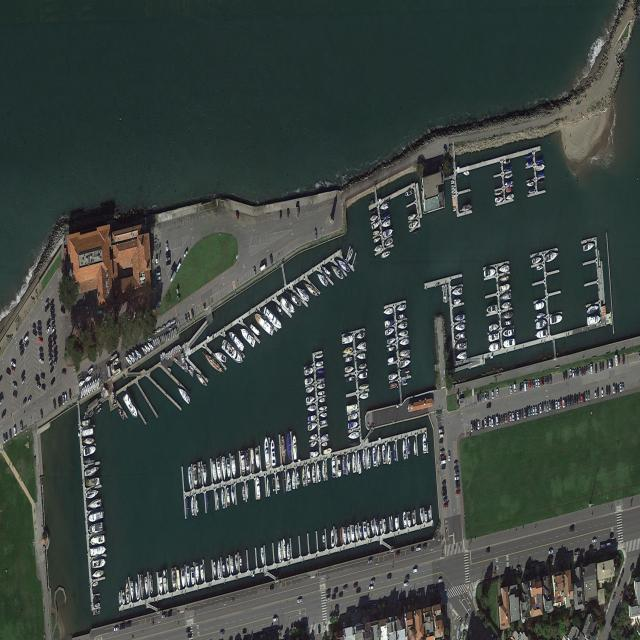large-vehicle: (169, 270, 177, 284)
ship: (221, 338, 244, 368), (253, 310, 274, 338), (263, 305, 283, 334), (204, 350, 224, 377), (123, 392, 139, 422), (228, 329, 245, 354), (285, 287, 302, 310), (240, 325, 256, 349), (280, 295, 296, 318), (177, 385, 191, 406), (337, 256, 351, 276), (304, 280, 318, 300), (295, 285, 310, 303), (331, 263, 344, 283), (195, 371, 208, 389), (316, 270, 328, 289), (264, 436, 270, 471), (88, 510, 104, 523), (90, 545, 107, 557), (87, 498, 102, 511), (85, 465, 100, 478), (281, 435, 287, 466), (286, 433, 292, 464), (545, 251, 559, 264), (90, 534, 105, 546), (89, 522, 104, 534), (249, 447, 255, 475), (586, 304, 600, 316), (587, 314, 601, 326), (270, 438, 276, 466), (91, 558, 106, 569), (240, 450, 246, 477), (221, 456, 227, 482), (214, 351, 227, 363), (192, 463, 198, 489), (86, 477, 100, 488), (250, 323, 260, 338), (171, 567, 177, 591), (550, 314, 563, 325), (499, 292, 512, 303), (86, 489, 99, 500), (83, 445, 96, 456), (321, 265, 331, 279), (211, 460, 217, 483), (383, 227, 394, 239), (484, 268, 496, 279), (536, 329, 548, 340), (503, 337, 515, 348), (501, 310, 513, 321), (92, 569, 104, 580), (301, 465, 307, 487), (162, 569, 167, 595), (139, 574, 144, 600), (81, 428, 94, 438), (292, 434, 297, 460), (197, 461, 202, 486), (188, 466, 193, 491), (125, 579, 130, 604), (158, 571, 163, 596), (460, 203, 471, 214), (408, 219, 419, 230), (536, 319, 547, 330), (488, 332, 499, 343), (489, 341, 500, 352), (231, 454, 236, 478), (245, 450, 250, 474), (221, 487, 226, 510), (255, 447, 260, 470), (277, 540, 282, 563), (387, 443, 392, 466), (381, 219, 391, 230), (380, 201, 390, 212), (216, 458, 221, 480), (231, 484, 236, 506), (499, 264, 510, 274), (499, 283, 510, 293), (535, 301, 545, 312), (400, 359, 411, 369), (583, 242, 594, 252), (454, 313, 465, 323), (452, 287, 463, 297), (487, 304, 498, 314), (503, 328, 514, 338), (456, 341, 467, 351), (342, 335, 353, 345), (186, 565, 191, 587), (422, 432, 427, 454), (382, 443, 387, 465), (381, 249, 390, 261), (384, 236, 393, 248), (275, 304, 284, 316), (346, 403, 358, 412), (83, 437, 95, 446), (353, 252, 359, 270), (84, 456, 96, 465), (226, 457, 231, 478), (202, 464, 207, 485), (311, 463, 316, 484), (291, 469, 296, 490), (337, 457, 342, 478), (372, 446, 377, 467), (362, 449, 367, 470), (402, 439, 407, 460), (118, 407, 125, 422), (347, 247, 353, 264), (385, 327, 395, 337), (398, 320, 408, 330), (456, 351, 466, 361), (217, 559, 222, 579), (181, 568, 186, 588), (316, 463, 321, 483), (308, 422, 318, 432), (342, 455, 347, 475), (352, 453, 357, 473), (399, 349, 410, 358), (348, 421, 359, 430), (348, 431, 359, 440), (256, 476, 260, 500), (131, 350, 139, 362), (134, 348, 142, 360), (357, 451, 361, 475), (144, 577, 149, 596), (260, 547, 265, 566), (330, 529, 335, 548), (306, 464, 311, 483), (346, 454, 351, 473), (371, 221, 380, 231), (532, 256, 542, 265), (383, 307, 393, 316), (385, 319, 395, 328), (388, 372, 398, 381), (399, 338, 409, 347), (398, 329, 408, 338), (397, 303, 406, 313), (455, 323, 465, 332), (489, 323, 499, 332), (501, 301, 511, 310), (343, 346, 353, 355), (348, 412, 358, 421), (356, 342, 366, 351), (356, 352, 366, 361), (234, 554, 239, 572), (536, 163, 546, 172), (374, 243, 382, 254), (358, 383, 369, 391), (282, 471, 286, 493), (332, 456, 336, 478), (191, 495, 195, 516), (125, 354, 132, 366), (128, 352, 135, 364), (149, 574, 153, 595), (130, 581, 134, 602), (177, 570, 181, 591), (282, 538, 286, 559), (195, 562, 199, 583), (322, 460, 326, 481), (377, 444, 381, 465), (408, 212, 417, 221), (500, 274, 509, 283), (387, 337, 396, 346), (356, 331, 365, 340), (345, 365, 354, 374), (310, 450, 319, 459), (307, 404, 316, 413), (306, 395, 315, 404), (306, 385, 315, 394), (370, 213, 378, 223), (226, 487, 230, 507), (387, 356, 397, 364), (455, 332, 465, 340), (359, 392, 369, 400), (266, 477, 270, 497), (191, 566, 195, 586), (304, 368, 314, 376), (343, 526, 347, 546), (287, 471, 291, 491), (367, 449, 371, 469), (87, 366, 94, 377), (186, 498, 190, 517), (135, 581, 139, 600), (363, 521, 367, 540), (351, 524, 355, 543), (381, 213, 390, 221), (495, 196, 504, 204), (346, 375, 355, 383), (358, 372, 367, 380), (358, 363, 367, 371), (200, 564, 204, 582), (102, 385, 108, 397), (317, 382, 325, 391), (305, 377, 314, 385), (323, 448, 332, 456), (375, 519, 379, 537), (347, 527, 351, 545), (420, 507, 424, 525), (147, 341, 154, 351), (141, 345, 148, 355), (322, 531, 326, 548), (226, 558, 230, 575), (339, 528, 343, 545), (407, 511, 411, 528), (403, 511, 407, 528), (394, 513, 398, 530), (371, 519, 375, 536), (355, 525, 359, 542), (413, 439, 417, 456), (405, 189, 413, 197), (506, 193, 514, 201), (242, 485, 246, 501), (390, 382, 398, 390), (537, 312, 545, 320), (276, 475, 280, 491), (424, 507, 428, 523), (374, 236, 381, 245), (503, 166, 512, 173), (504, 173, 513, 180), (144, 344, 151, 353), (315, 353, 324, 360), (320, 434, 329, 441), (308, 415, 317, 422), (111, 352, 118, 361), (216, 491, 219, 511), (213, 562, 217, 577), (383, 519, 387, 534), (287, 542, 290, 561), (393, 443, 396, 462), (373, 229, 380, 237), (505, 180, 513, 187), (398, 313, 406, 320), (504, 320, 512, 327), (345, 356, 353, 363), (80, 386, 84, 400), (82, 419, 90, 426), (85, 375, 92, 383), (96, 376, 100, 390), (91, 379, 95, 393), (88, 381, 92, 395), (315, 361, 323, 368), (319, 405, 327, 412), (320, 411, 327, 419), (311, 440, 318, 448), (296, 471, 300, 485), (538, 170, 545, 178), (222, 563, 226, 577), (246, 482, 249, 500), (188, 369, 194, 378), (189, 364, 195, 373), (231, 556, 234, 574), (79, 379, 85, 388), (316, 377, 325, 383), (195, 500, 199, 513), (83, 384, 87, 397), (93, 378, 97, 391), (206, 493, 209, 510), (335, 529, 338, 546), (390, 515, 393, 532), (407, 438, 410, 455), (89, 409, 94, 419), (525, 153, 532, 160), (463, 170, 470, 177), (454, 298, 461, 305), (318, 390, 325, 397), (310, 433, 317, 440), (536, 157, 543, 164), (538, 178, 545, 185), (495, 190, 503, 196), (118, 591, 121, 606), (367, 523, 370, 538), (527, 181, 534, 187), (503, 159, 510, 165), (272, 478, 275, 492), (122, 592, 125, 606), (92, 581, 98, 588), (412, 511, 415, 525), (380, 521, 383, 535), (359, 525, 362, 539), (84, 413, 89, 421), (316, 369, 324, 374), (86, 383, 89, 396), (526, 161, 532, 167), (537, 265, 543, 271), (94, 603, 100, 609), (319, 398, 325, 404), (320, 420, 326, 426), (428, 509, 431, 521), (528, 189, 535, 194), (166, 321, 171, 328), (170, 318, 175, 325), (156, 327, 161, 334), (506, 187, 511, 193), (322, 442, 327, 448), (161, 325, 166, 331), (163, 351, 166, 360), (167, 352, 170, 361), (154, 338, 157, 347), (153, 339, 156, 348), (178, 344, 181, 353), (176, 345, 179, 354), (147, 337, 152, 342), (160, 354, 163, 362), (165, 353, 168, 361), (168, 351, 171, 359), (170, 350, 173, 358), (156, 337, 159, 345), (167, 367, 171, 373), (173, 347, 176, 355), (174, 357, 178, 363), (186, 363, 189, 370), (180, 352, 184, 357), (162, 352, 164, 361), (172, 348, 174, 357), (451, 180, 455, 184), (175, 346, 177, 354), (182, 359, 185, 364), (452, 194, 455, 198), (451, 191, 455, 194), (451, 188, 455, 191), (451, 185, 455, 188), (181, 355, 184, 359)
small-vehicle: (23, 334, 29, 344), (24, 340, 29, 351), (11, 360, 17, 369), (48, 344, 53, 354), (46, 317, 51, 327), (27, 395, 32, 405), (21, 376, 26, 386), (50, 377, 55, 387), (1, 409, 6, 419), (183, 249, 188, 259), (171, 261, 176, 271), (12, 382, 18, 390), (630, 562, 635, 571), (52, 334, 57, 343), (46, 325, 51, 334), (19, 343, 24, 352), (18, 338, 23, 347), (612, 592, 616, 603), (13, 426, 17, 437), (57, 397, 61, 408), (2, 433, 6, 444), (184, 313, 188, 324), (314, 230, 318, 241), (606, 541, 612, 548), (562, 372, 566, 382), (617, 577, 621, 587), (620, 569, 624, 579), (617, 356, 621, 366), (48, 351, 53, 359), (48, 338, 52, 348), (51, 314, 56, 322), (50, 309, 55, 317), (50, 303, 54, 313), (49, 361, 54, 369), (53, 346, 58, 354), (53, 350, 58, 358), (38, 337, 43, 345), (32, 324, 37, 332), (35, 376, 40, 384), (68, 389, 72, 399), (85, 306, 89, 316), (574, 550, 580, 556), (620, 590, 624, 599), (513, 384, 517, 393), (507, 412, 510, 424), (52, 342, 56, 351), (49, 355, 53, 364), (52, 329, 56, 338), (51, 320, 55, 329), (45, 304, 49, 313), (21, 371, 25, 380), (20, 349, 24, 358), (120, 623, 126, 629), (45, 297, 49, 306), (191, 309, 195, 318), (442, 485, 447, 492), (36, 383, 41, 390), (39, 358, 44, 365), (37, 326, 42, 333), (32, 330, 37, 337), (39, 347, 44, 354), (6, 369, 11, 376), (220, 630, 225, 637), (126, 621, 131, 628), (395, 551, 400, 558), (599, 361, 602, 372), (595, 363, 598, 374), (565, 370, 568, 381), (524, 381, 527, 392), (590, 364, 593, 375), (555, 400, 558, 411), (539, 403, 542, 414), (535, 405, 538, 416), (5, 431, 8, 442), (9, 428, 12, 439), (20, 422, 23, 433), (187, 312, 190, 323), (236, 210, 239, 221), (270, 254, 273, 265), (253, 266, 256, 277), (48, 334, 52, 342), (38, 320, 42, 328), (11, 365, 15, 373), (54, 357, 58, 365), (50, 366, 54, 374), (52, 326, 56, 334), (61, 307, 65, 315), (588, 546, 593, 552), (537, 404, 540, 414), (493, 416, 496, 426), (602, 361, 605, 371), (574, 394, 577, 404), (571, 395, 574, 405), (454, 476, 460, 481), (455, 480, 460, 486), (442, 480, 447, 486), (443, 498, 448, 504), (606, 360, 609, 370), (533, 379, 536, 389), (496, 388, 499, 398), (486, 392, 489, 402), (484, 392, 487, 402), (620, 383, 623, 393), (622, 354, 625, 364), (566, 552, 571, 558), (609, 360, 612, 370), (588, 364, 591, 374), (612, 385, 615, 395), (496, 416, 499, 426), (615, 383, 618, 393), (608, 385, 611, 395), (512, 412, 515, 422), (516, 411, 519, 421), (548, 402, 551, 412), (546, 402, 549, 412), (523, 409, 526, 419), (544, 402, 547, 412), (530, 406, 533, 416), (569, 527, 574, 533), (60, 395, 63, 405), (53, 399, 56, 409), (40, 409, 43, 419), (297, 598, 302, 604), (273, 617, 278, 623), (242, 628, 247, 634), (187, 633, 192, 639), (186, 627, 191, 633), (162, 613, 167, 619), (113, 627, 119, 632), (368, 559, 373, 565), (403, 582, 409, 587), (405, 574, 410, 580), (422, 545, 427, 551), (387, 573, 392, 579), (356, 587, 361, 593), (353, 583, 358, 589), (343, 586, 348, 592), (166, 260, 171, 266), (97, 310, 103, 315), (287, 208, 290, 218), (623, 582, 627, 589), (50, 300, 54, 307), (38, 331, 42, 338), (13, 392, 17, 399), (41, 374, 45, 381), (23, 398, 27, 405), (549, 375, 552, 384), (519, 382, 522, 391), (486, 417, 489, 426), (611, 359, 614, 368), (475, 420, 478, 429), (473, 421, 476, 430), (479, 393, 482, 402), (477, 394, 480, 403), (491, 391, 494, 400), (622, 382, 625, 391), (535, 379, 538, 388), (569, 369, 572, 378), (318, 624, 321, 633), (574, 369, 577, 378), (491, 419, 494, 428), (484, 419, 487, 428), (562, 400, 565, 409), (441, 460, 446, 465), (600, 543, 605, 548), (592, 538, 597, 543), (455, 471, 460, 476), (440, 450, 445, 455), (454, 466, 459, 471), (440, 455, 445, 460), (441, 465, 446, 470), (442, 491, 447, 496), (346, 611, 351, 616), (329, 615, 334, 620), (516, 566, 521, 571), (39, 353, 44, 358), (369, 586, 374, 591), (417, 592, 422, 597), (326, 590, 331, 595), (438, 578, 443, 583), (166, 257, 171, 262), (156, 276, 161, 281), (584, 365, 586, 377), (549, 549, 553, 555), (528, 380, 531, 388), (594, 391, 597, 399), (62, 370, 66, 376), (270, 585, 274, 591), (168, 611, 172, 617), (411, 547, 415, 553), (371, 579, 375, 585), (332, 594, 336, 600), (526, 407, 528, 418), (583, 391, 585, 402), (576, 393, 578, 404), (569, 394, 571, 405), (586, 391, 588, 402), (42, 384, 45, 391), (551, 400, 553, 410), (542, 402, 544, 412), (519, 409, 521, 419), (515, 411, 517, 421), (498, 414, 500, 424), (567, 395, 569, 405), (581, 367, 583, 377), (577, 368, 579, 378), (581, 392, 583, 402), (578, 393, 580, 403), (487, 404, 491, 409), (439, 429, 444, 433), (439, 434, 444, 438), (448, 452, 450, 462), (610, 533, 614, 538), (454, 461, 458, 466), (456, 485, 460, 490), (486, 548, 490, 553), (538, 378, 540, 388), (510, 385, 512, 395), (482, 393, 484, 403), (572, 369, 574, 379), (588, 391, 590, 401), (505, 414, 507, 424), (503, 415, 505, 425), (500, 415, 502, 425), (489, 417, 491, 427), (471, 422, 473, 432), (618, 383, 620, 393), (606, 386, 608, 396), (597, 388, 599, 398), (510, 412, 512, 422), (560, 398, 562, 408), (528, 407, 530, 417), (416, 547, 421, 551), (326, 597, 330, 602), (339, 593, 343, 598), (334, 588, 338, 593), (166, 242, 168, 252), (156, 272, 161, 276), (540, 377, 542, 386), (545, 376, 547, 385), (547, 376, 549, 385), (553, 400, 555, 409), (521, 409, 523, 418), (542, 376, 544, 385), (482, 420, 484, 429), (531, 379, 533, 388), (522, 382, 524, 391), (343, 622, 345, 631), (579, 368, 581, 377), (478, 421, 480, 430), (558, 401, 560, 410), (533, 406, 535, 415), (280, 210, 282, 219), (565, 397, 567, 405), (440, 439, 444, 443), (456, 491, 460, 495), (444, 504, 448, 508), (601, 389, 603, 397), (581, 394, 583, 402), (429, 589, 433, 593), (413, 569, 417, 573), (157, 280, 161, 284), (527, 381, 529, 388)
